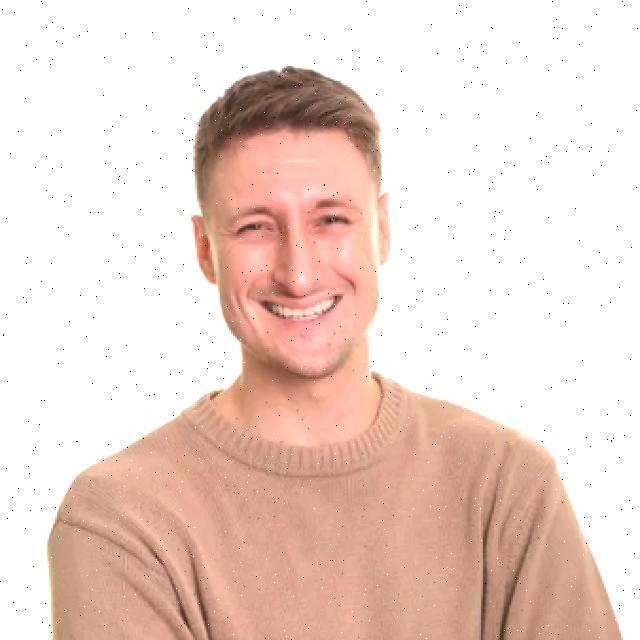face_no_mask: (190, 131, 393, 377)
